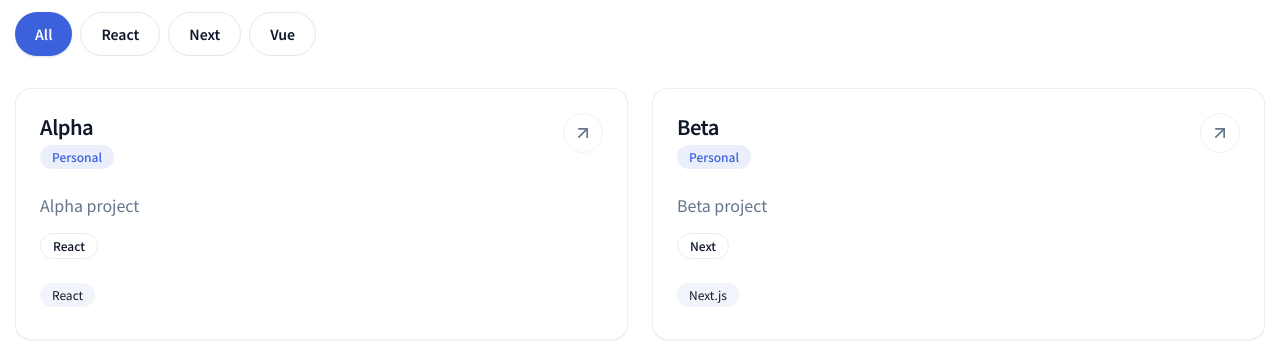
ProjectsGrid › shows the empty state when no projects match
The image size is (1280, 357).
What coordinates should you click on to do the following:
click the button "Vue"
I would click on:
 (283, 34)
Its box is [249,12,316,56].
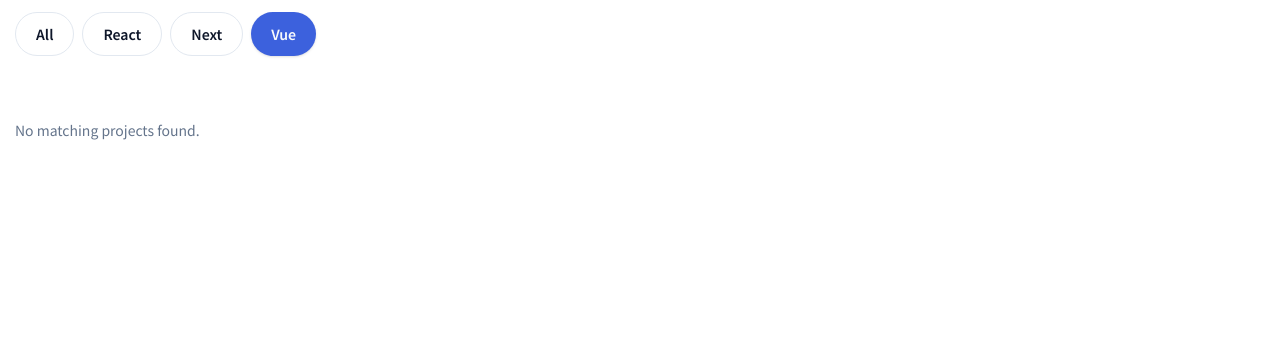
Check: the text "No matching projects found." is shown, box [15,120,200,140]
